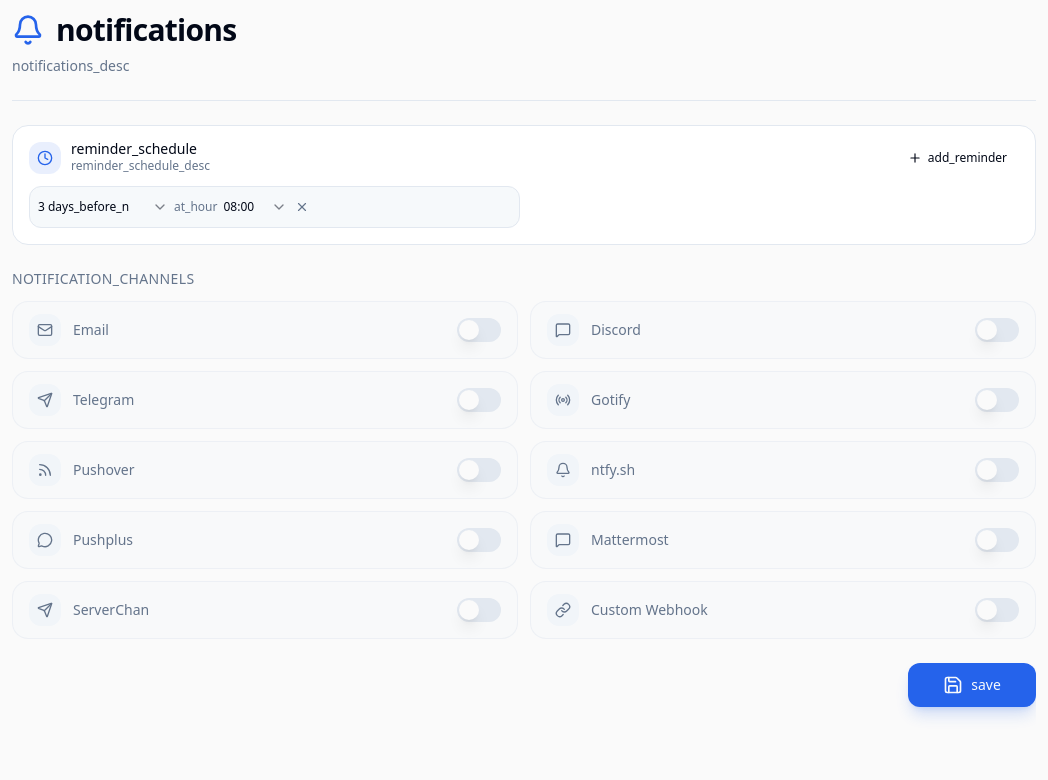
Scenario: NotificationsTab › disables the save button and shows the saving label while mutation is pending
The width and height of the screenshot is (1048, 780).
Click the button "save".
click(972, 685)  # box x1=908 y1=663 x2=1036 y2=707
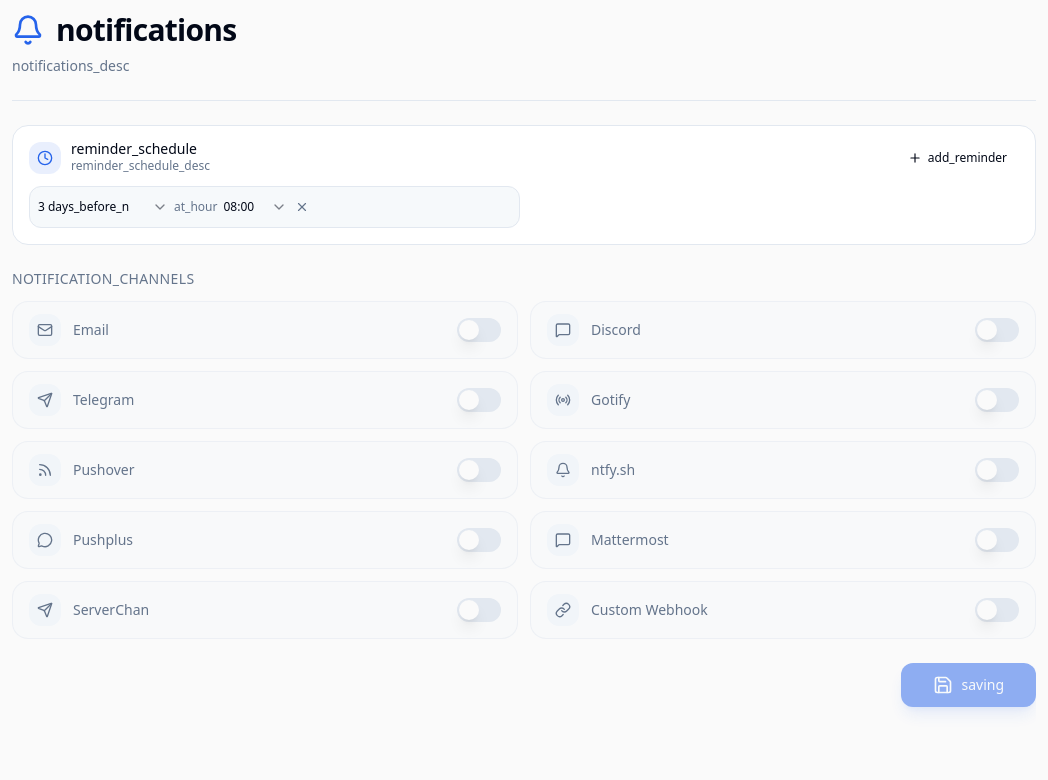
Expected: the button "saving" is disabled, x1=902 y1=663 x2=1036 y2=707
